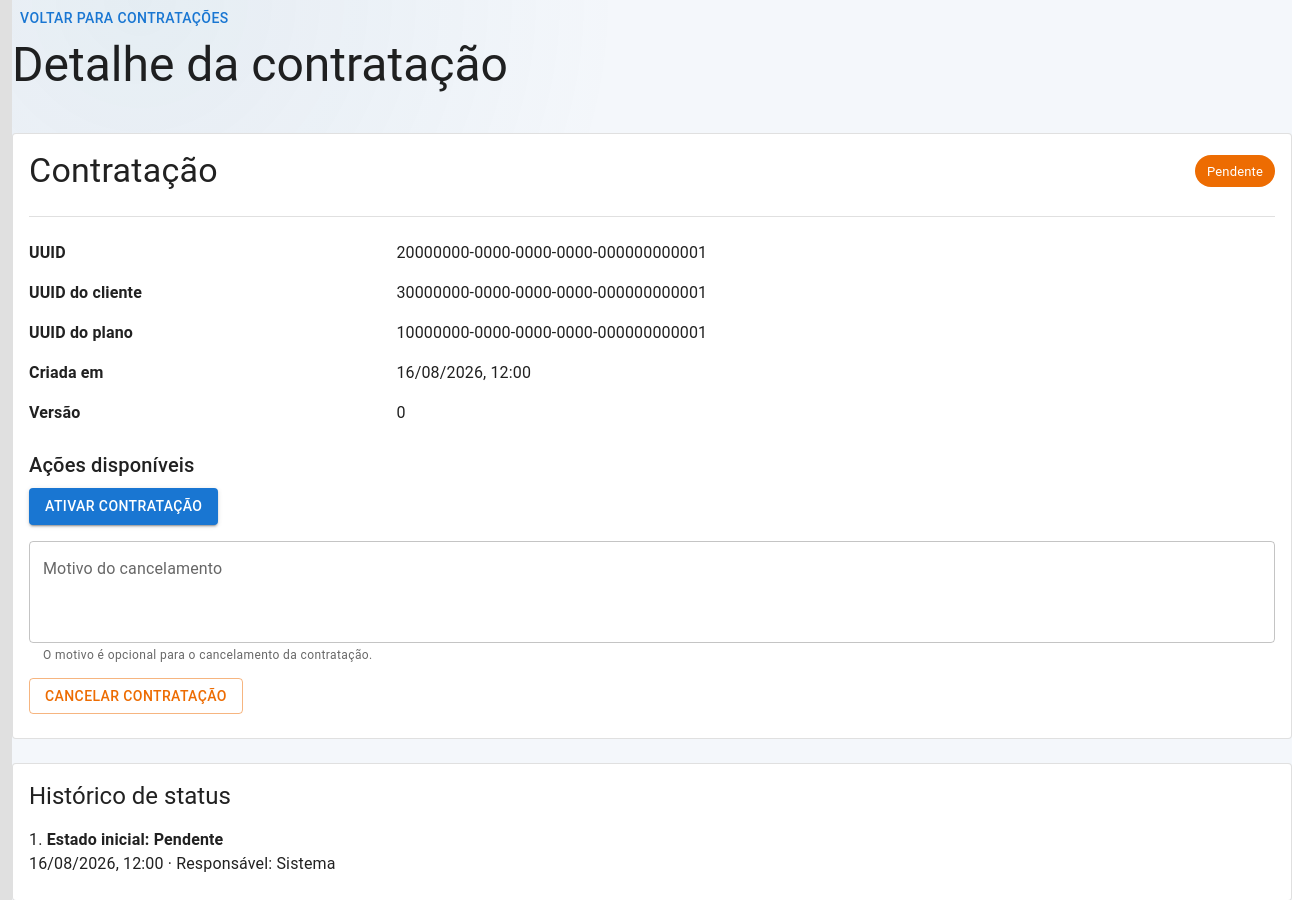
Scenario: PaginaDetalheContratacao › ativa uma contratacao pendente e atualiza detalhe e historico confirmados pela API
The image size is (1292, 900).
Expected: the element named "Status: Pendente" is shown, [1195, 155, 1275, 187]
Expected: the text "Responsável: Sistema" is shown, [29, 854, 336, 873]
Click the button "Ativar contratação": {"x": 124, "y": 507} [29, 488, 218, 525]
(page scrolled)
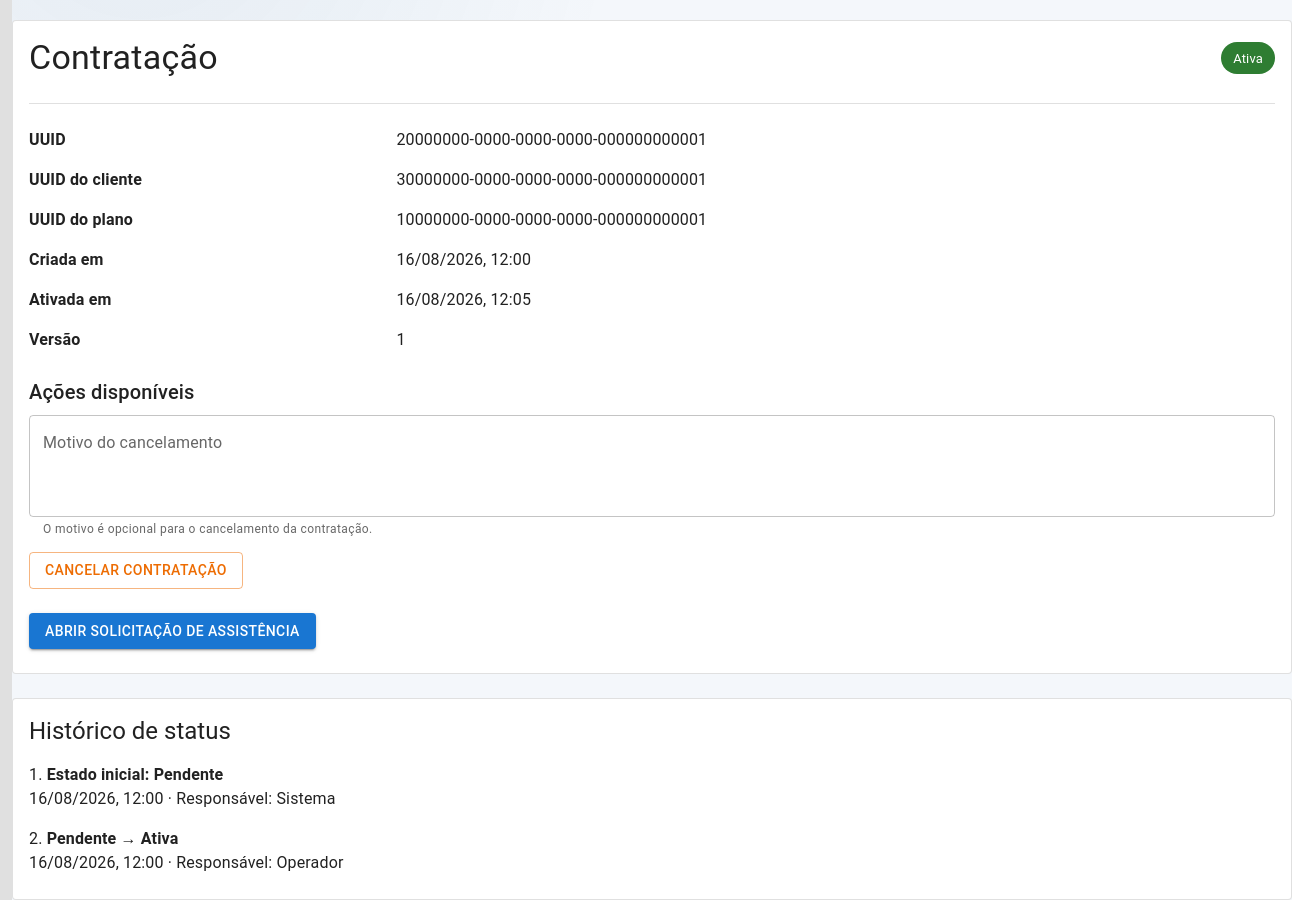
Expected: the element named "Status: Ativa" is shown, [1221, 42, 1275, 74]
Expected: the text "Pendente → Ativa" is shown, [47, 829, 178, 848]
